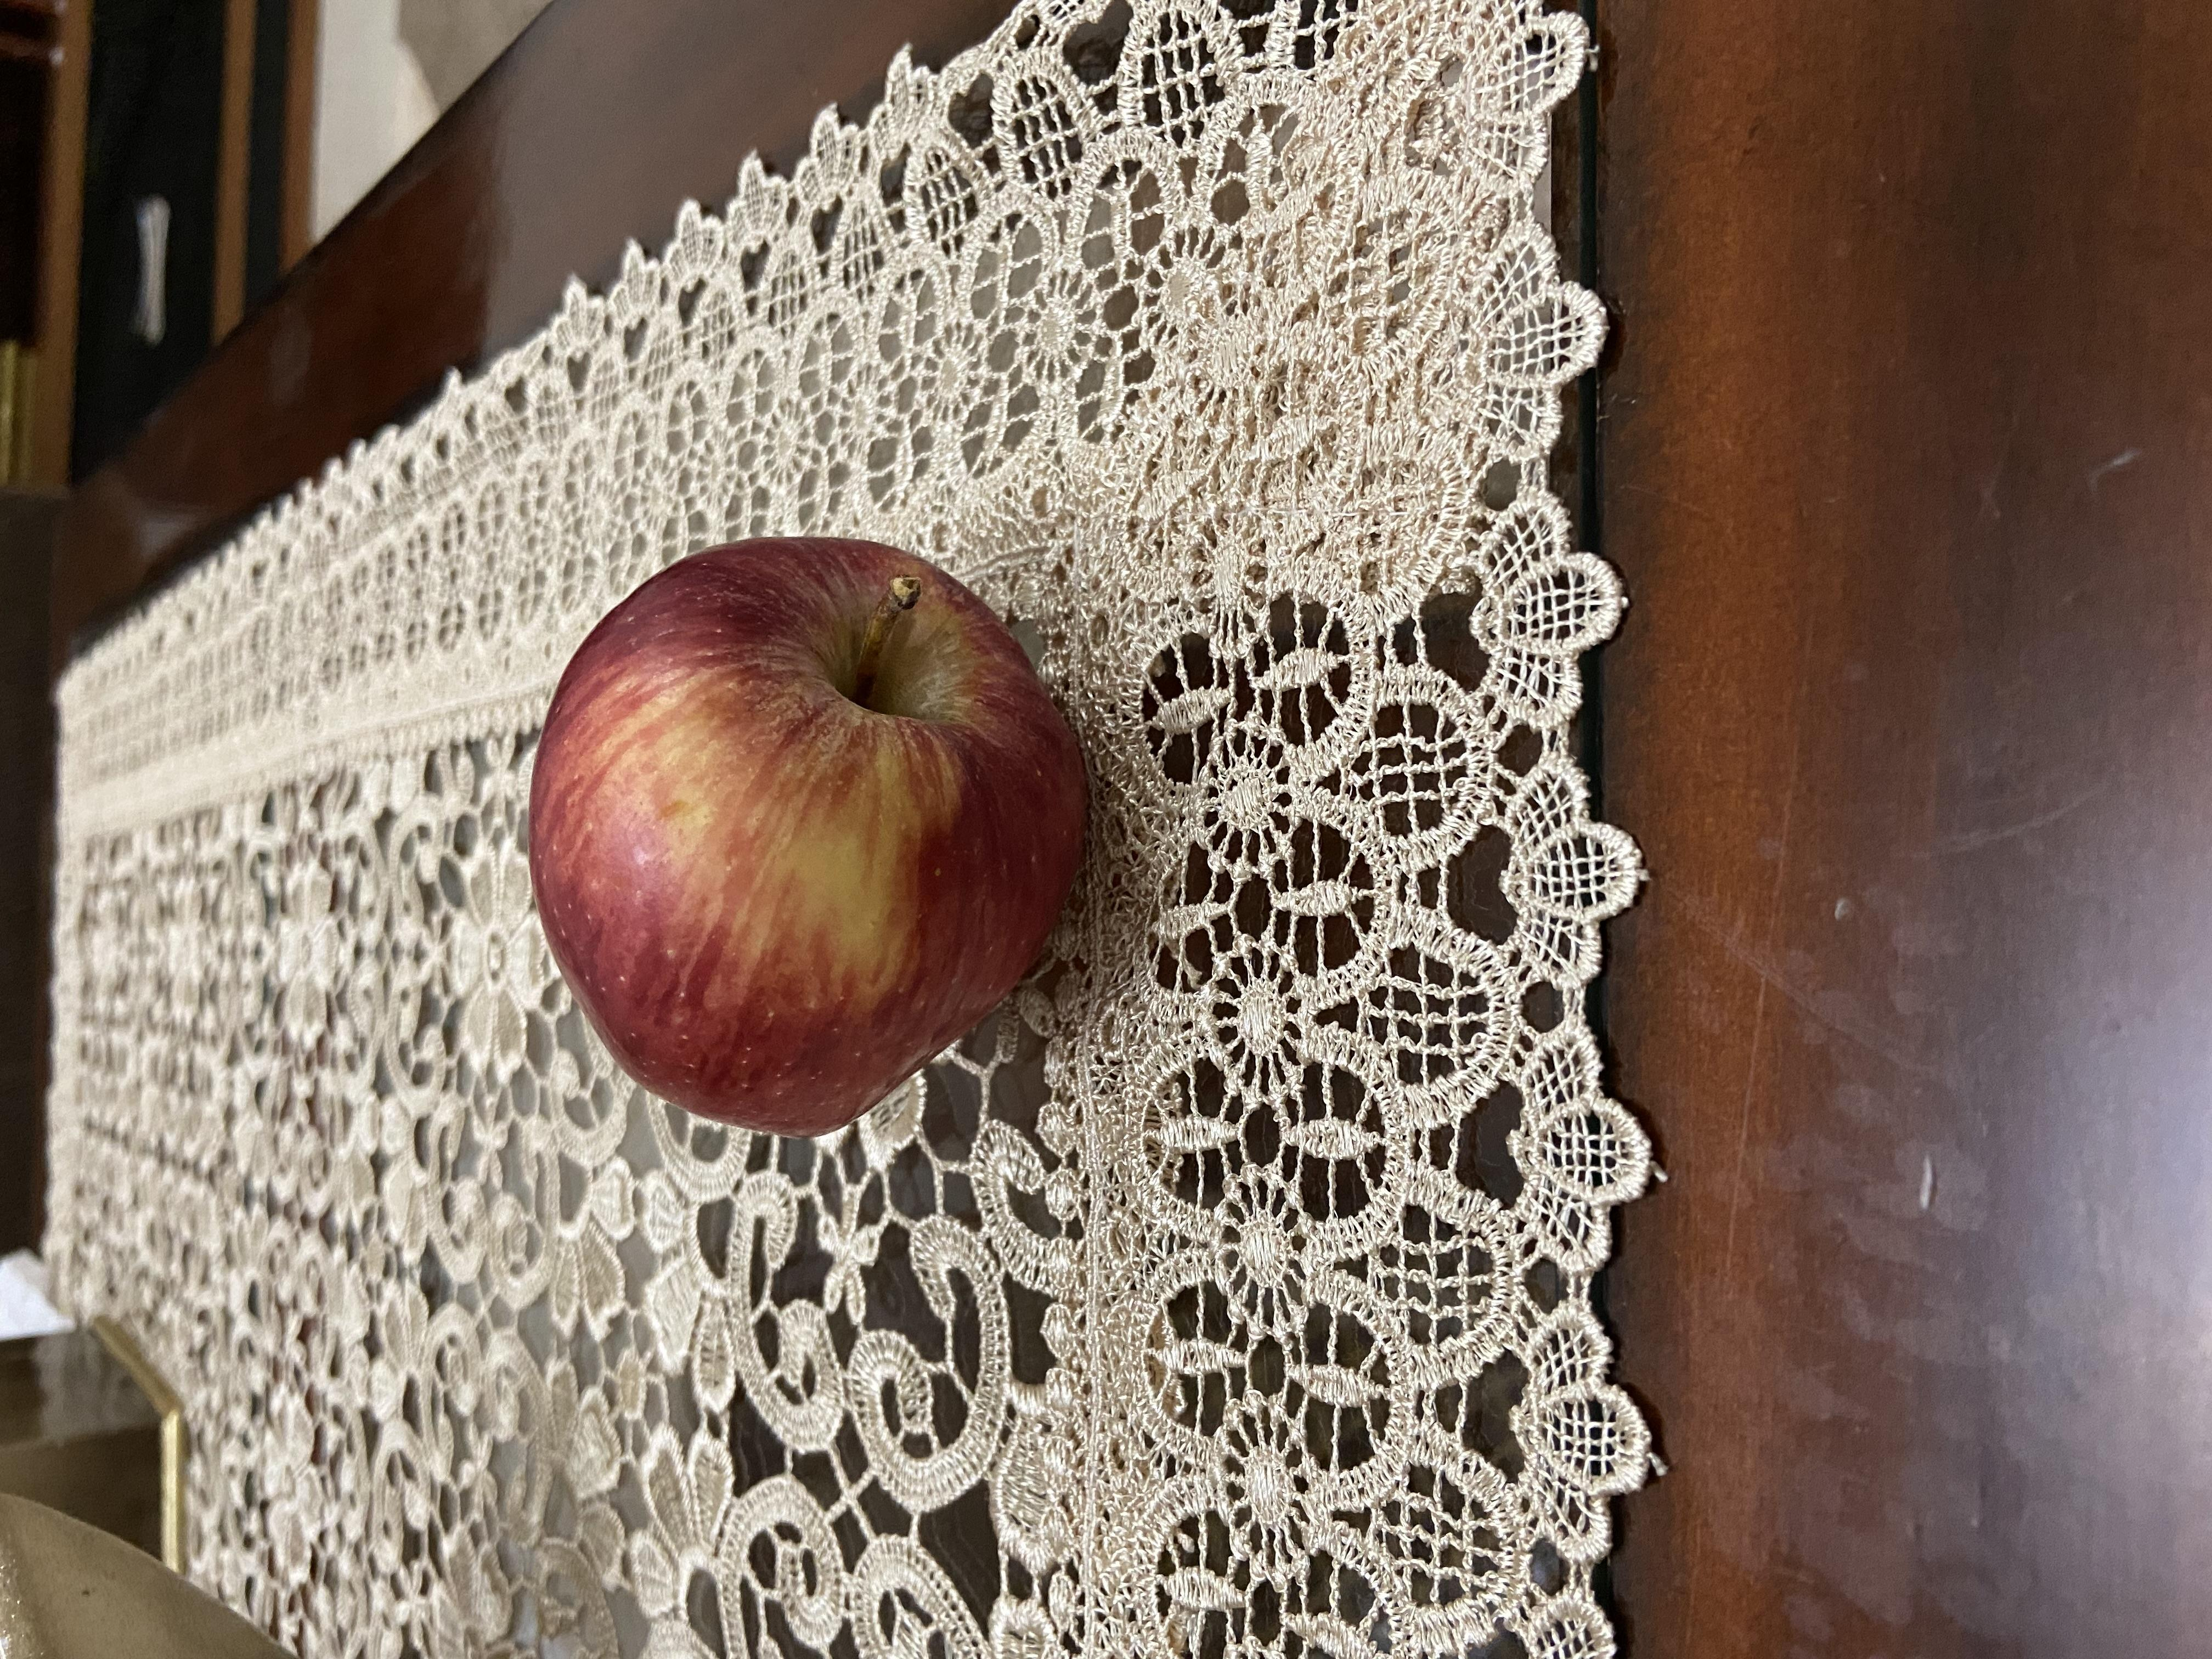Apple: (705, 383, 1515, 828)
